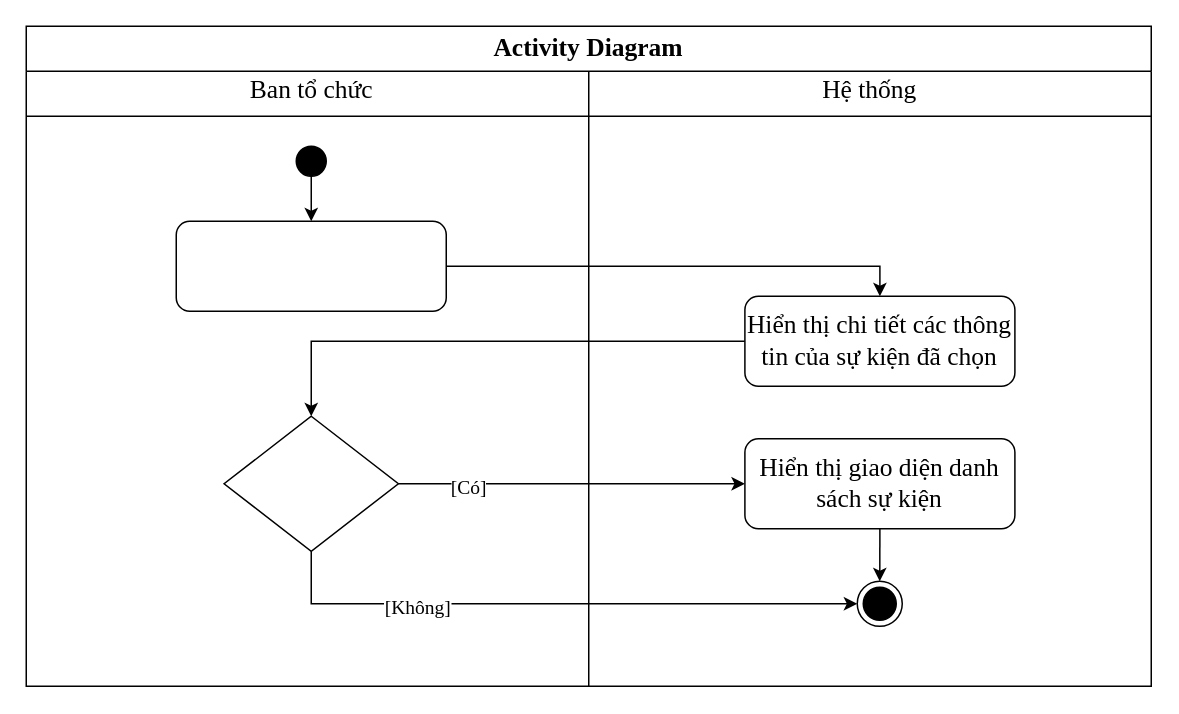
Some shapes in this 1179 by 714 pixel diagram are drawn without their labels. Each missing label, with the centre of its shape:
Nhấn dấu X để tắt?: (x=310, y=483)
Nhấn icon Eye tại cột Action của sự kiện cụ thể: (x=310, y=265)
